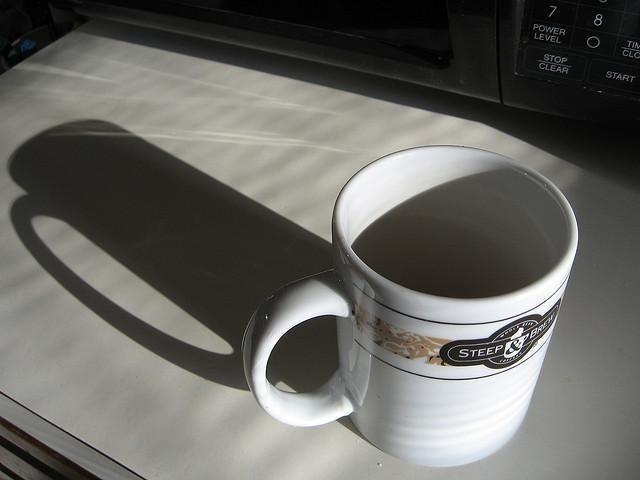cup-handle: (241, 145, 582, 466)
